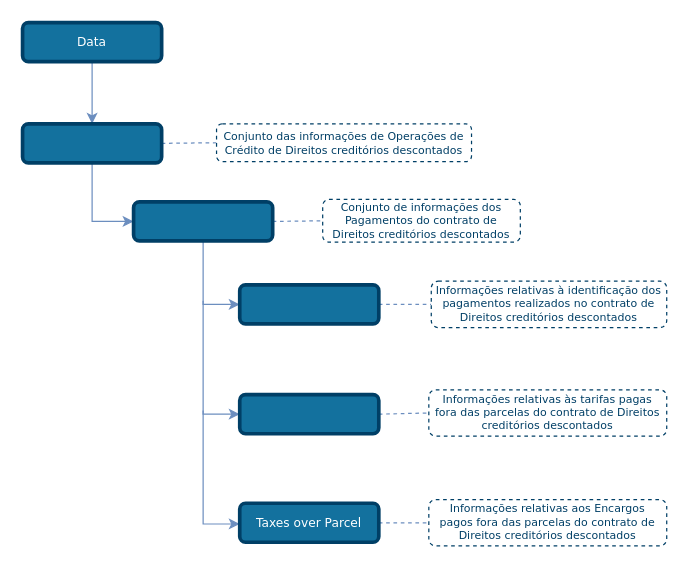
Image size: 688x567. Some labels were removed from this diagram. The box of each missing label's shape, as (x1, y1, x2, y2) in pixels:
Charges over Parcel: (237, 392, 380, 435)
Invoice Financings: (20, 121, 163, 164)
Payments: (131, 199, 274, 242)
Releases: (237, 282, 380, 325)
